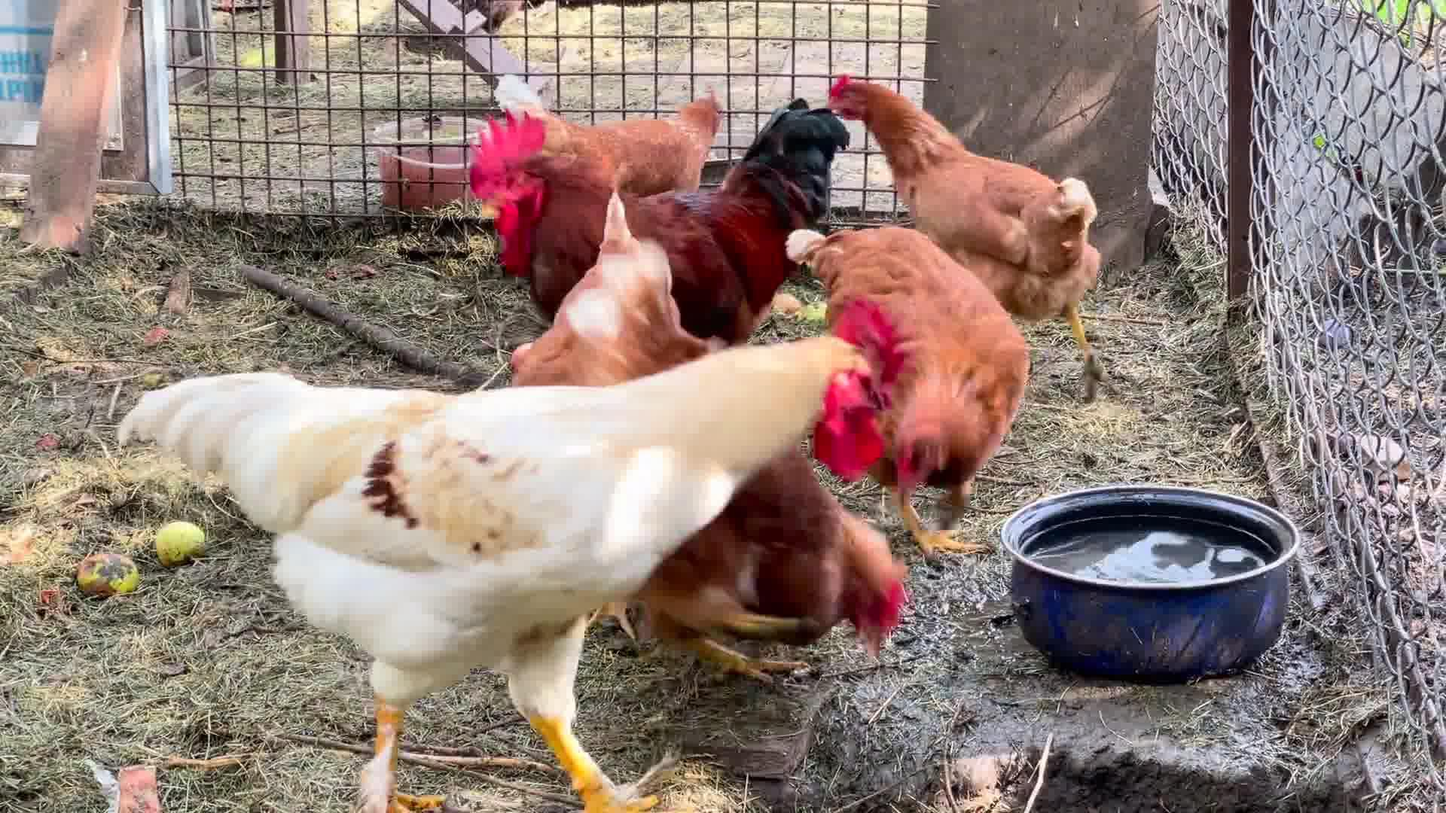Normal: (132, 300, 918, 813), (793, 228, 1057, 560), (833, 79, 1106, 392), (486, 104, 814, 330), (492, 70, 721, 182)
